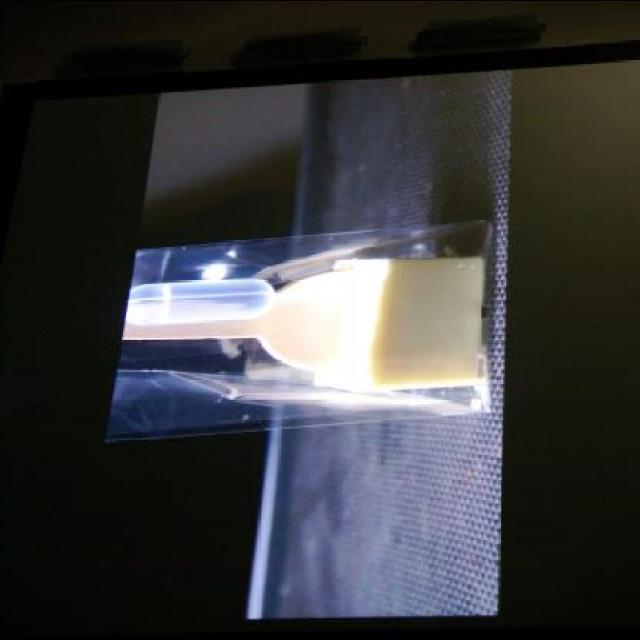Cheese: (308, 260, 488, 391)
